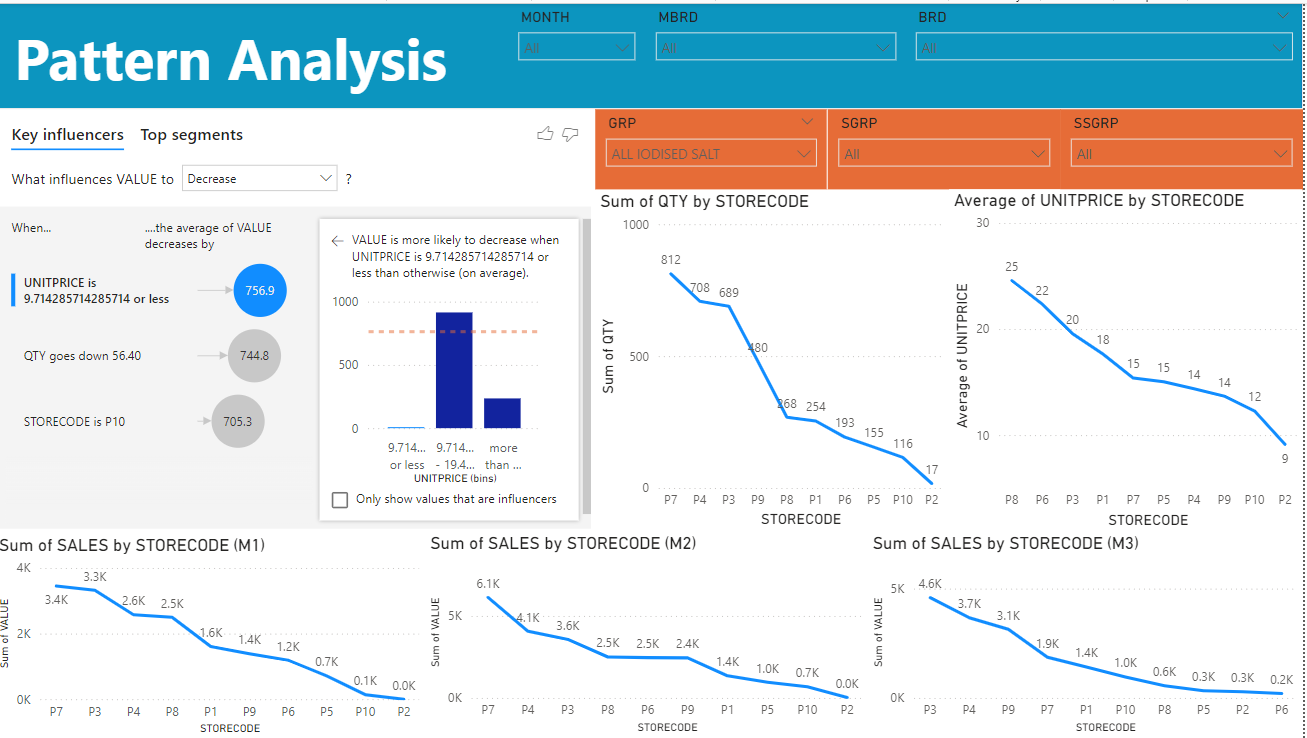

The page's visual inventory and layout, read from the dashboard file:
{"tool":"powerbi","page":{"name":"Pattern Analysis","canvas":[1280,720],"ordinal":1},"visuals":[{"type":"shape","box":[0,0,1280.2,103.7],"z":0},{"type":"slicer","fields":{"Values":["Product Category Data.SSGRP"]},"box":[1042.9,104.3,237.4,79.6],"z":1000},{"type":"slicer","fields":{"Values":["Company Data.MBRD"]},"box":[636.7,0,255.2,104.3],"z":2000},{"type":"slicer","fields":{"Values":["Company Data.BRD"]},"box":[891.4,0,388.9,103.9],"z":3000},{"type":"keyDriversVisual","fields":{"ExplainBy":["Sales Data.UNITPRICE","Sales Data.QTY","Product Category Data.GRP","Product Category Data.SGRP","Product Category Data.SSGRP","Company Data.MBRD","Company Data.CMP","Company Data.BRD","Location Data.STORECODE"],"Target":["Sales Data.VALUE"]},"box":[0,104.3,588.7,415.8],"z":4000},{"type":"slicer","fields":{"Values":["Product Category Data.SGRP"]},"box":[815.1,104.3,227.8,78.2],"z":5000},{"type":"slicer","fields":{"Values":["Product Category Data.GRP"]},"box":[588.7,104.3,226.4,78.2],"z":6000},{"type":"lineChart","title":"Sum of SALES by STORECODE (M1)","fields":{"Category":["Location Data.STORECODE"],"Y":["Sum(Sales Data.VALUE)"]},"box":[0,520.1,421.3,200.3],"z":7000},{"type":"lineChart","title":"Sum of SALES by STORECODE (M2)","fields":{"Category":["Location Data.STORECODE"],"Y":["Sum(Sales Data.VALUE)"]},"box":[421.3,518.7,433.6,200.3],"z":8000},{"type":"lineChart","title":"Sum of SALES by STORECODE (M3)","fields":{"Category":["Location Data.STORECODE"],"Y":["Sum(Sales Data.VALUE)"]},"box":[854.9,518.7,425.4,200.3],"z":9000},{"type":"slicer","fields":{"Values":["Time Data.MONTH"]},"box":[502.2,0,134.5,104.3],"z":10000},{"type":"lineChart","fields":{"Y":["Sum(Sales Data.QTY)"],"Category":["Location Data.STORECODE"]},"box":[588.7,183.9,345.8,334.8],"z":11000},{"type":"lineChart","fields":{"Y":["Avg(Sales Data.UNITPRICE)"],"Category":["Location Data.STORECODE"]},"box":[934.5,182.5,345.8,336.2],"z":12000}]}

Visuals, with their boxes in screenshot pixels (x1, y1, x2, y2), scaled from the page's 1280x720 canvas onto the 1307x738 screenshot:
shape: x1=0 y1=0 x2=1306 y2=106
slicer - Product Category Data.SSGRP: x1=1065 y1=107 x2=1306 y2=188
slicer - Company Data.MBRD: x1=650 y1=0 x2=911 y2=107
slicer - Company Data.BRD: x1=910 y1=0 x2=1306 y2=106
keyDriversVisual - Sales Data.UNITPRICE x Sales Data.QTY: x1=0 y1=107 x2=601 y2=533
slicer - Product Category Data.SGRP: x1=832 y1=107 x2=1065 y2=187
slicer - Product Category Data.GRP: x1=601 y1=107 x2=832 y2=187
"Sum of SALES by STORECODE (M1)" lineChart: x1=0 y1=533 x2=430 y2=737
"Sum of SALES by STORECODE (M2)" lineChart: x1=430 y1=532 x2=873 y2=737
"Sum of SALES by STORECODE (M3)" lineChart: x1=873 y1=532 x2=1306 y2=737
slicer - Time Data.MONTH: x1=513 y1=0 x2=650 y2=107
lineChart - Sum(Sales Data.QTY) x Location Data.STORECODE: x1=601 y1=188 x2=954 y2=532
lineChart - Avg(Sales Data.UNITPRICE) x Location Data.STORECODE: x1=954 y1=187 x2=1306 y2=532
